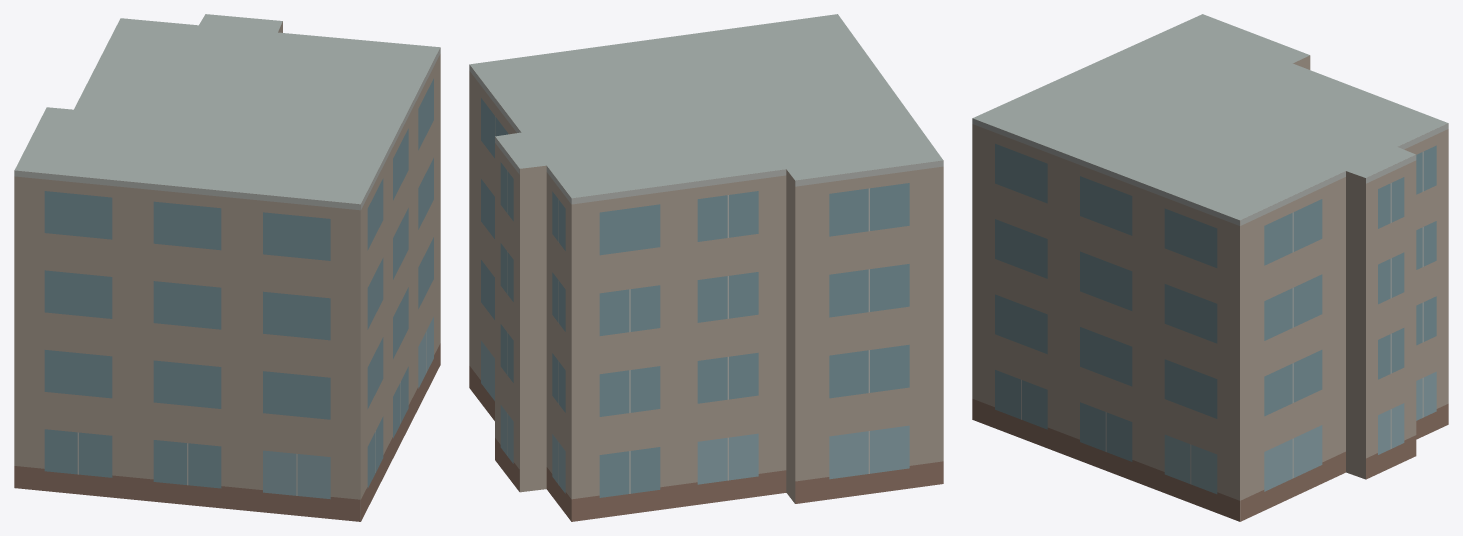
Rendered from survey-upis-32882332.glb.
3 renders of one model, left to right at view 1: azimuth 30°, elevation 25°; view 2: azimuth 150°, elevation 25°; view 3: azimuth 270°, elevation 25°, orthographic. The views are drawn at different scales.
Visible parts, largest first — view 1: survey-upis-32882332.tmp; view 2: survey-upis-32882332.tmp; view 3: survey-upis-32882332.tmp.
Part boxes in pixels (x1,y1,x2,y2): survey-upis-32882332.tmp: (14,14,440,521); survey-upis-32882332.tmp: (469,14,943,521); survey-upis-32882332.tmp: (972,14,1448,521).
Size of the model in its own units: 18.88 by 12.85 by 18.4.
